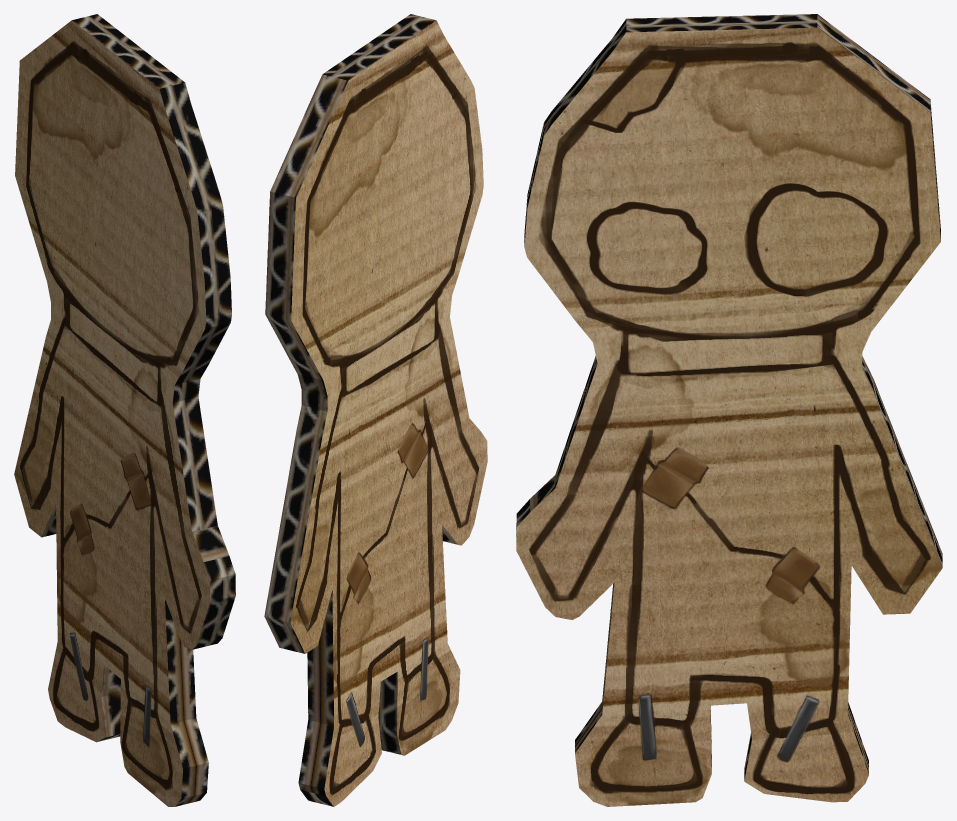
File: Human_Nastya_1.fbx
3 renders of one model, left to right at view 1: azimuth 30°, elevation 25°; view 2: azimuth 150°, elevation 25°; view 3: azimuth 270°, elevation 25°, orthographic. The views are drawn at different scales.
Parts seen in each view (by area): view 1: Plane.001; view 2: Plane.001; view 3: Plane.001.
Part boxes in pixels (<box>): Plane.001: <box>14,14,235,806</box>; Plane.001: <box>264,14,487,806</box>; Plane.001: <box>516,14,942,806</box>.
Bounding box in the file's own units: 5.55 × 148 × 73.24.
